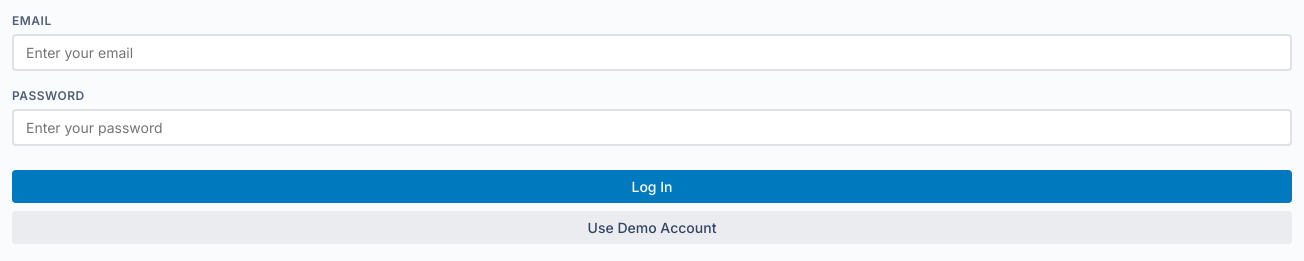
it: LoginForm › fills demo credentials on button click
Click the button "Use Demo Account": (652,228) [12,211,1292,244]
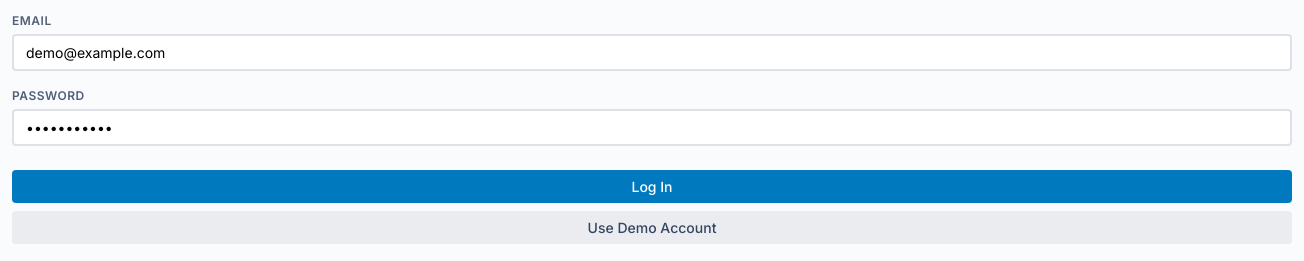
Now the field with placeholder "Enter your email" holds "demo@example.com", box [12,34,1292,71]
Now the password field with placeholder "Enter your password" holds "password123", box [12,109,1292,146]
